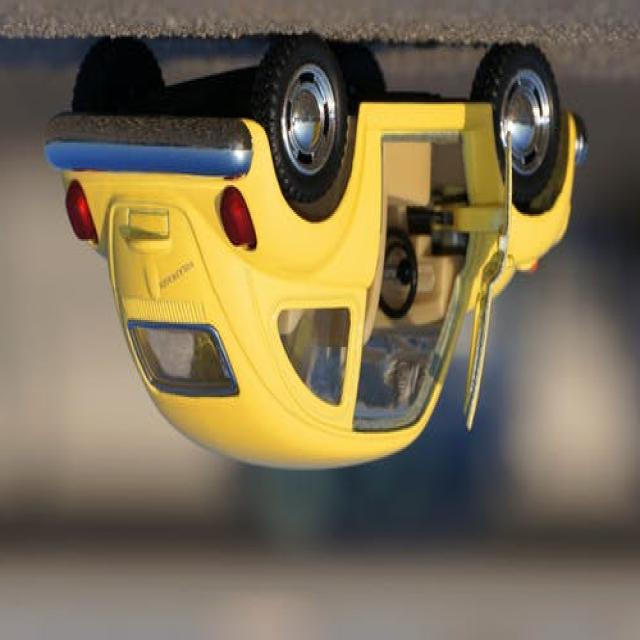Car: (45, 33, 590, 472)
